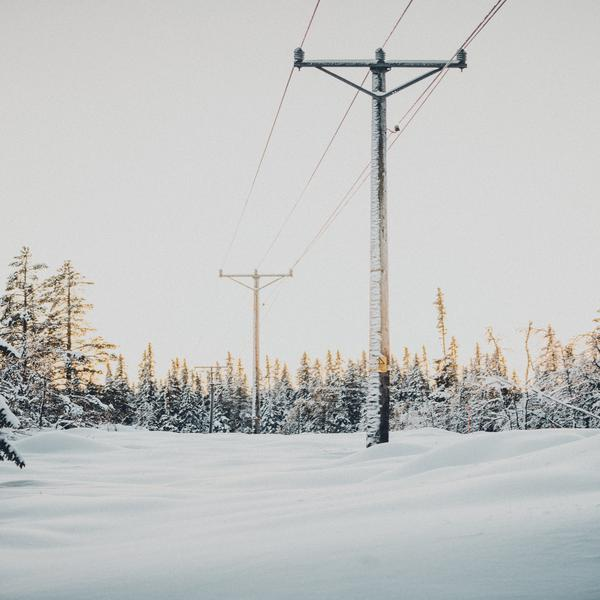utility_pole: (282, 24, 475, 171), (209, 256, 298, 329)
